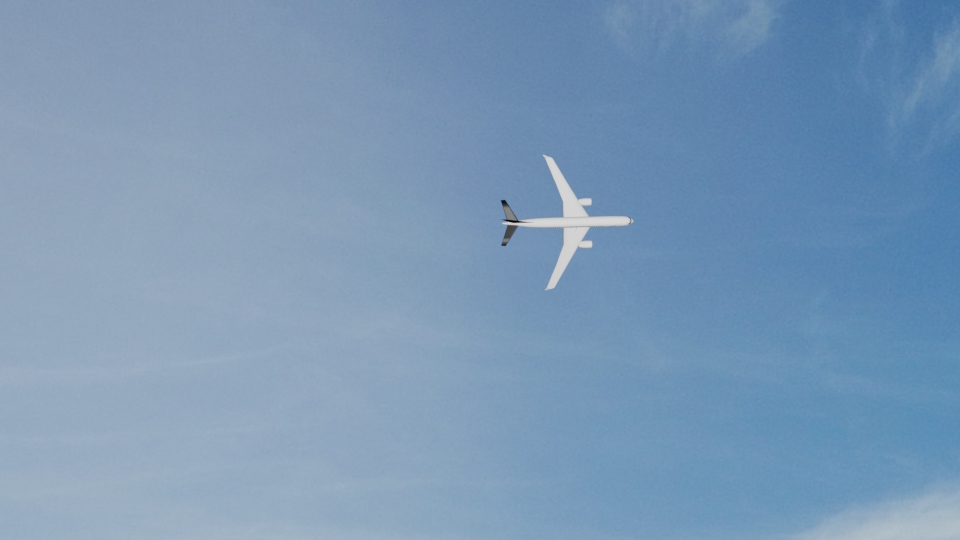plane: (496, 152, 634, 290)
